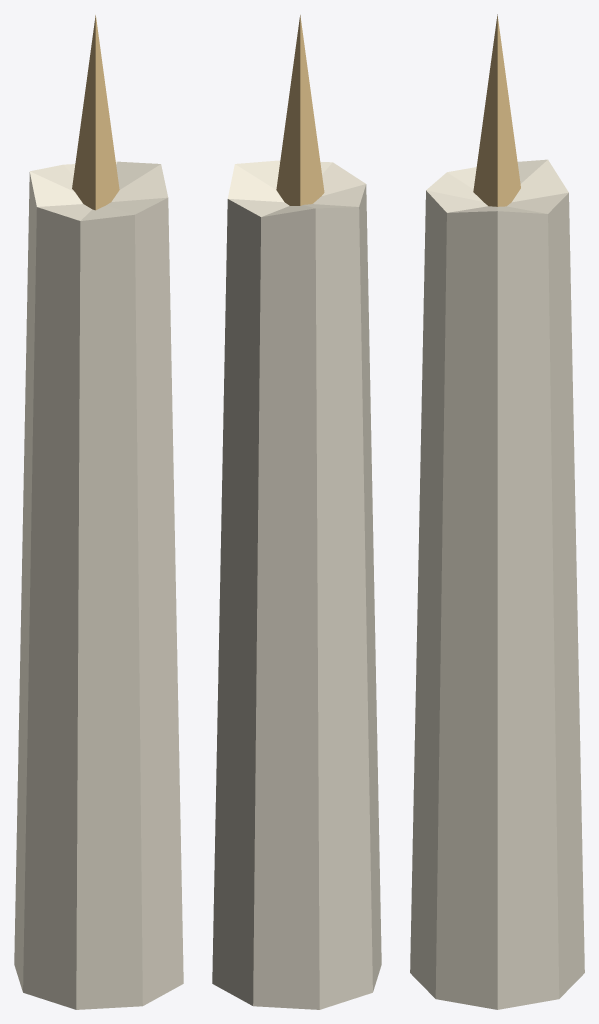
Rendered from Candle_2.fbx.
The picture shows the model from 3 angles, left to right: view 1: azimuth 30°, elevation 25°; view 2: azimuth 150°, elevation 25°; view 3: azimuth 270°, elevation 25°; orthographic projection.
Parts seen in each view (by area): view 1: polySurface1503; view 2: polySurface1503; view 3: polySurface1503.
Part boxes in pixels (box(x1,y1,x2,y2)): polySurface1503: box(14, 15, 183, 1009); polySurface1503: box(212, 15, 381, 1009); polySurface1503: box(410, 14, 584, 1009).
Size of the model in its own units: 7 by 42.31 by 7.
